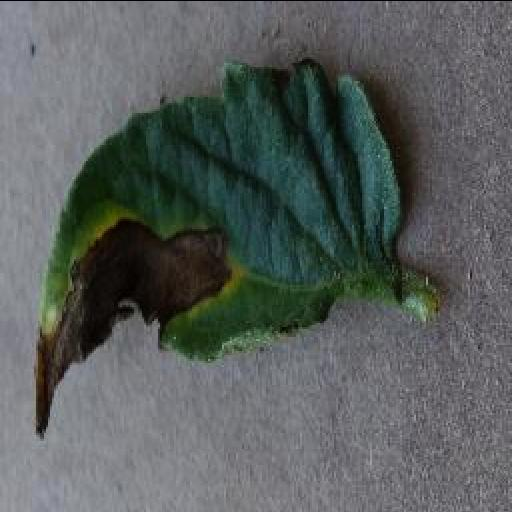disease_tomato: (27, 57, 405, 441)
